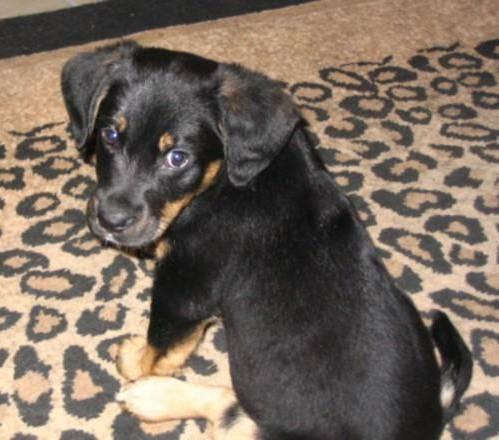dog: (62, 41, 472, 439)
